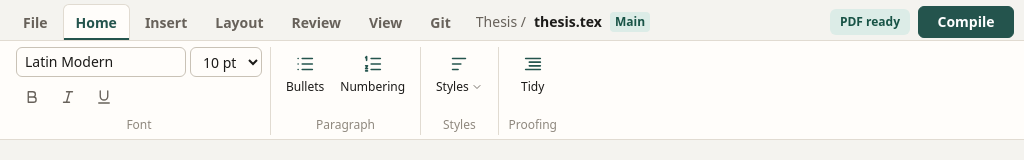
Test: Ribbon tabs › labels each panel by its tab
The image size is (1024, 160).
Click the tab "File" at (35, 22), box [10, 4, 60, 40]
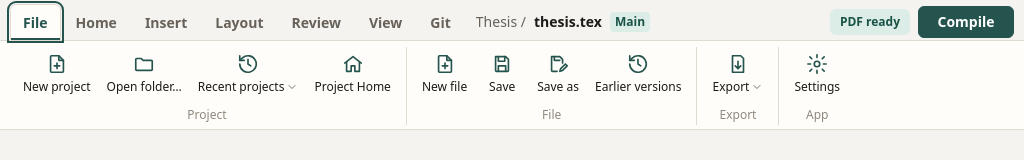
Check: the panel "file" is shown, box [0, 40, 1023, 129]
Click the tab "Insert" at (166, 22), box [132, 4, 200, 40]
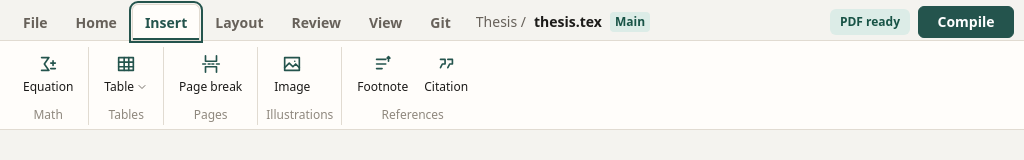
Check: the panel named "Insert" is shown, box [0, 40, 1023, 129]
Click the tab "Layout" at (239, 22), box [202, 4, 276, 40]
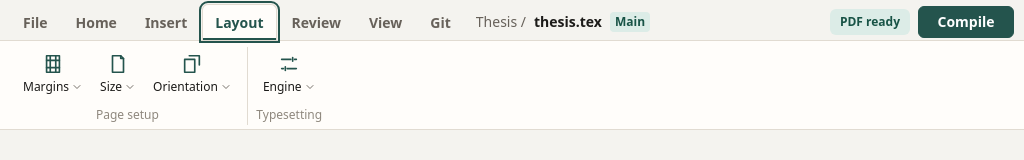
Check: the panel named "Layout" is shown, box [0, 40, 1023, 129]
Click the tab "View" at (386, 22), box [356, 4, 415, 40]
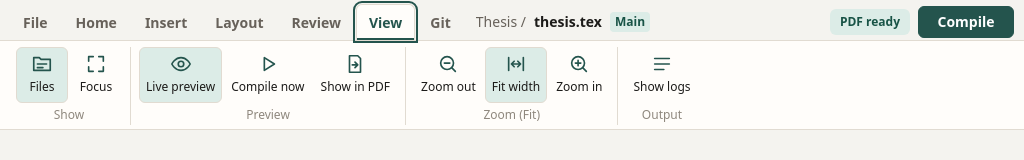
Check: the panel "view" is shown, box [0, 40, 1023, 129]
